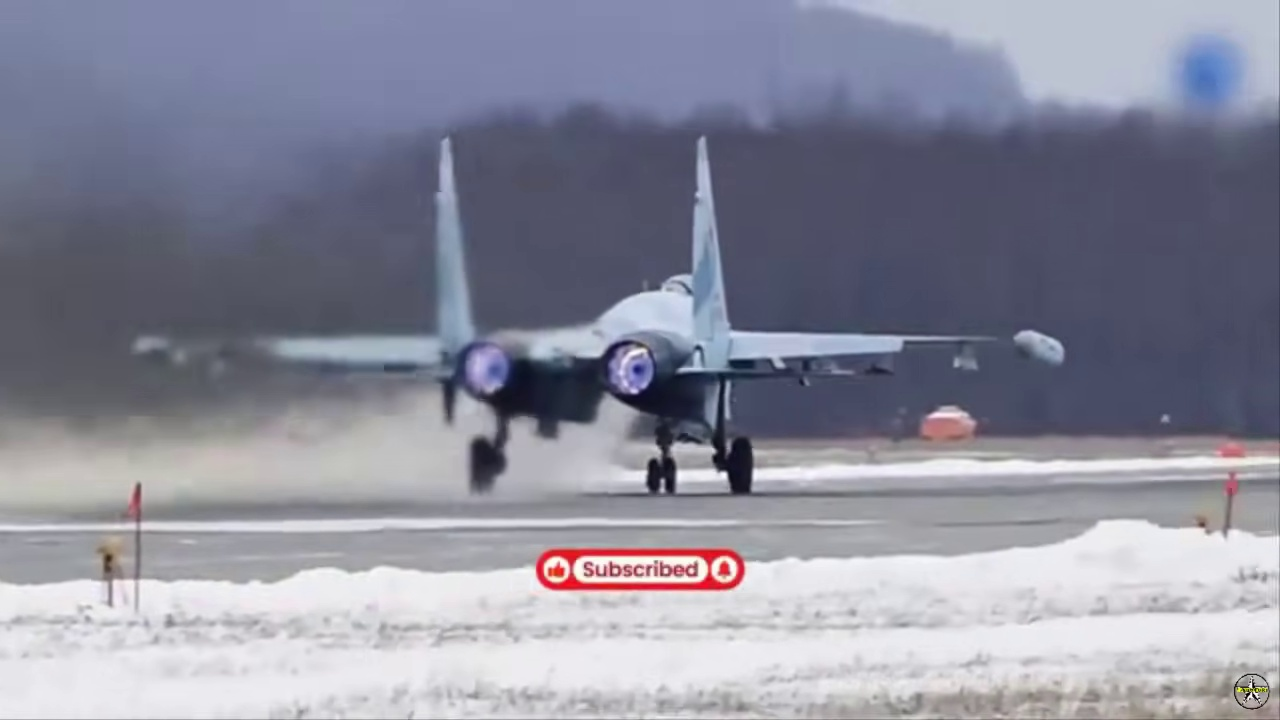Su35: (118, 127, 1071, 506)
